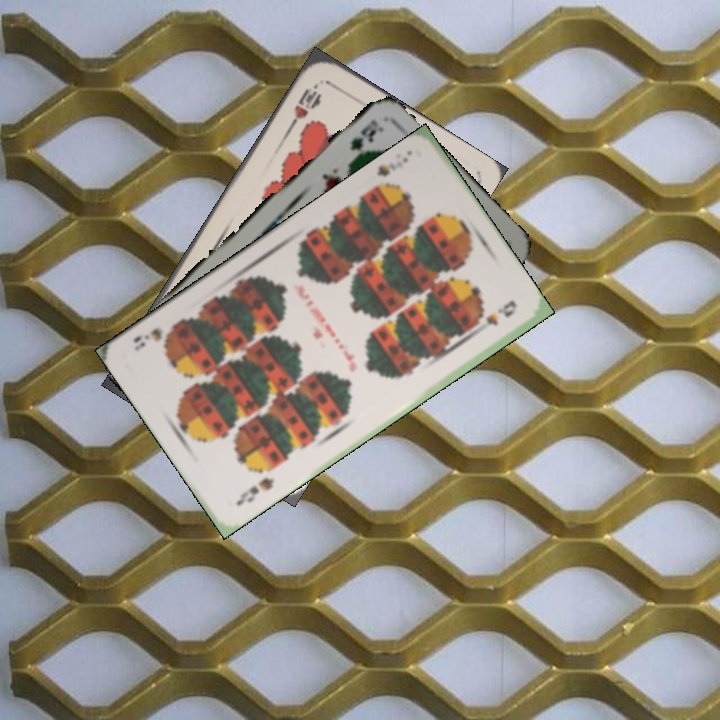GK: (346, 115, 384, 153)
H10: (285, 78, 325, 131)
S9: (231, 473, 277, 509), (372, 152, 411, 180)
